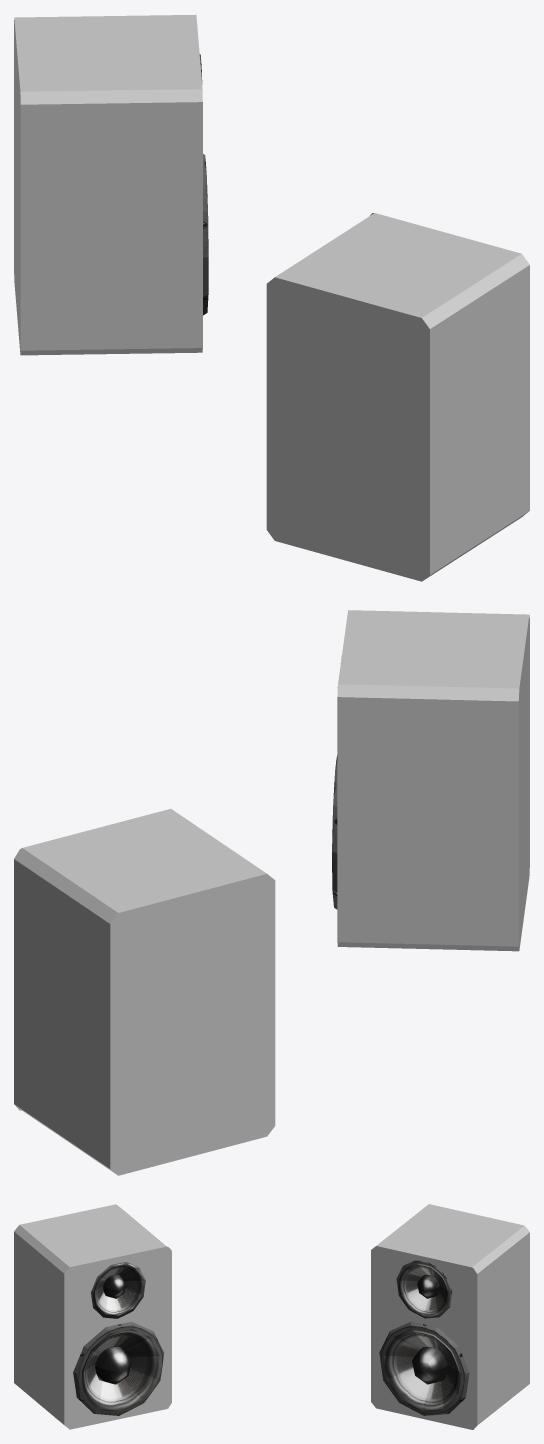
The model's file is speakers.fbx.
3 views of the same model, one above another, from view 1: azimuth 30°, elevation 25°; view 2: azimuth 150°, elevation 25°; view 3: azimuth 270°, elevation 25° (orthographic). The views are drawn at different scales.
Visible parts, largest first — view 1: polySurface11, polySurface13; view 2: polySurface13, polySurface11; view 3: polySurface13, polySurface11.
Part boxes in pixels (x1=…): polySurface11: x1=266, y1=213, x2=529, y2=581; polySurface13: x1=14, y1=14, x2=208, y2=355; polySurface13: x1=14, y1=808, x2=275, y2=1175; polySurface11: x1=332, y1=610, x2=529, y2=951; polySurface13: x1=371, y1=1204, x2=529, y2=1429; polySurface11: x1=14, y1=1204, x2=171, y2=1429.
Bounding box in the file's own units: 1.33 × 1.53 × 4.4.
